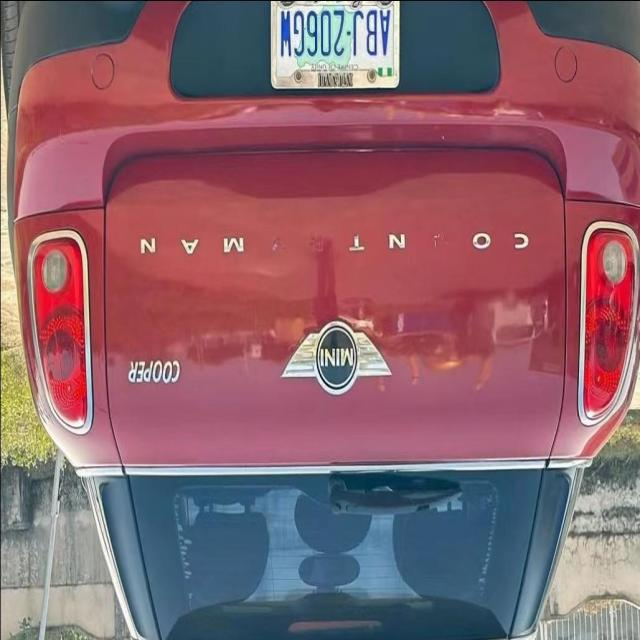Nigerian License Plate - vdataset benjamin-daria: (266, 0, 403, 91)
